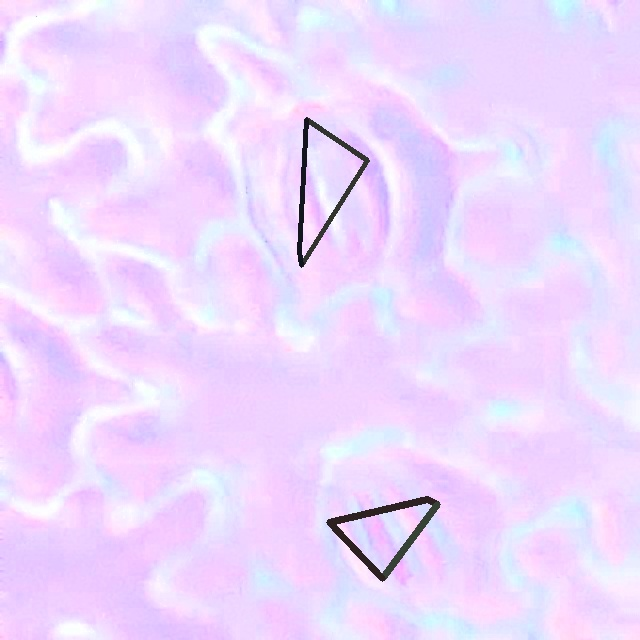open: (297, 117, 369, 267), (326, 496, 440, 581)
